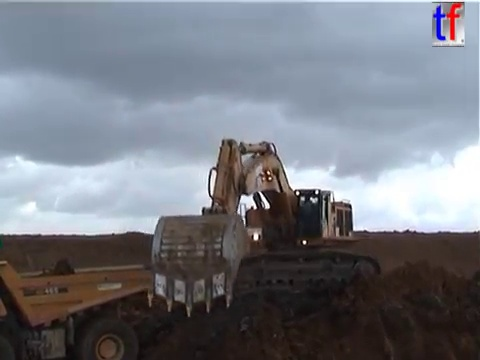excavator: (144, 135, 385, 319)
truck: (1, 256, 199, 360)
